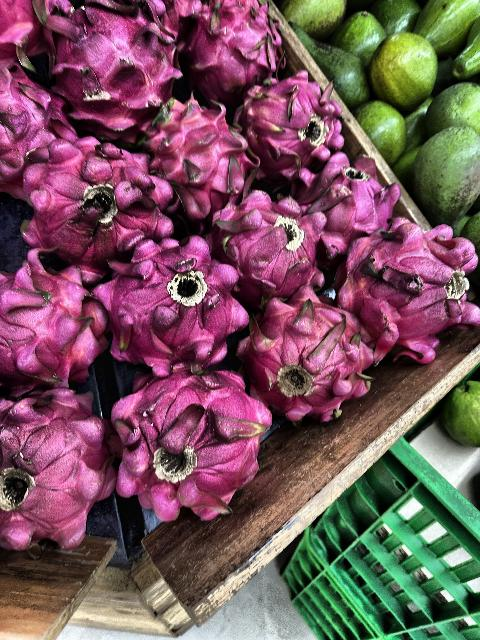buah-naga-matang: (104, 357, 270, 529), (0, 383, 122, 549), (19, 136, 176, 262), (336, 216, 478, 352), (42, 0, 176, 142), (242, 290, 374, 422), (100, 250, 252, 364), (0, 258, 110, 376), (216, 190, 324, 294), (232, 72, 342, 172), (284, 144, 396, 242), (142, 99, 242, 207), (1, 56, 70, 204), (188, 3, 280, 93)
